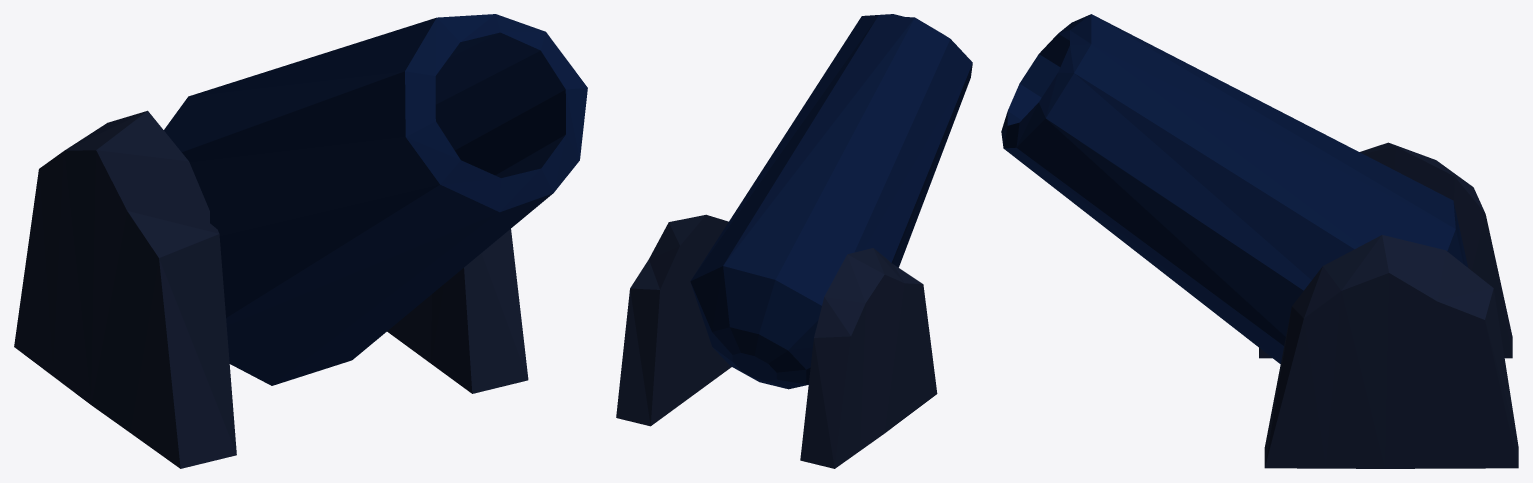
The model's file is obstacle_cannon.FBX.
The picture shows the model from 3 angles, left to right: view 1: azimuth 30°, elevation 25°; view 2: azimuth 150°, elevation 25°; view 3: azimuth 270°, elevation 25°; orthographic projection. The views are drawn at different scales.
Parts seen in each view (by area): view 1: roller_block001; view 2: roller_block001; view 3: roller_block001.
Part boxes in pixels (x1,y1,x2,y2): roller_block001: (14,14,587,468); roller_block001: (616,14,972,468); roller_block001: (1001,14,1518,468).
Size of the model in its own units: 2.89 by 3.86 by 4.79.
